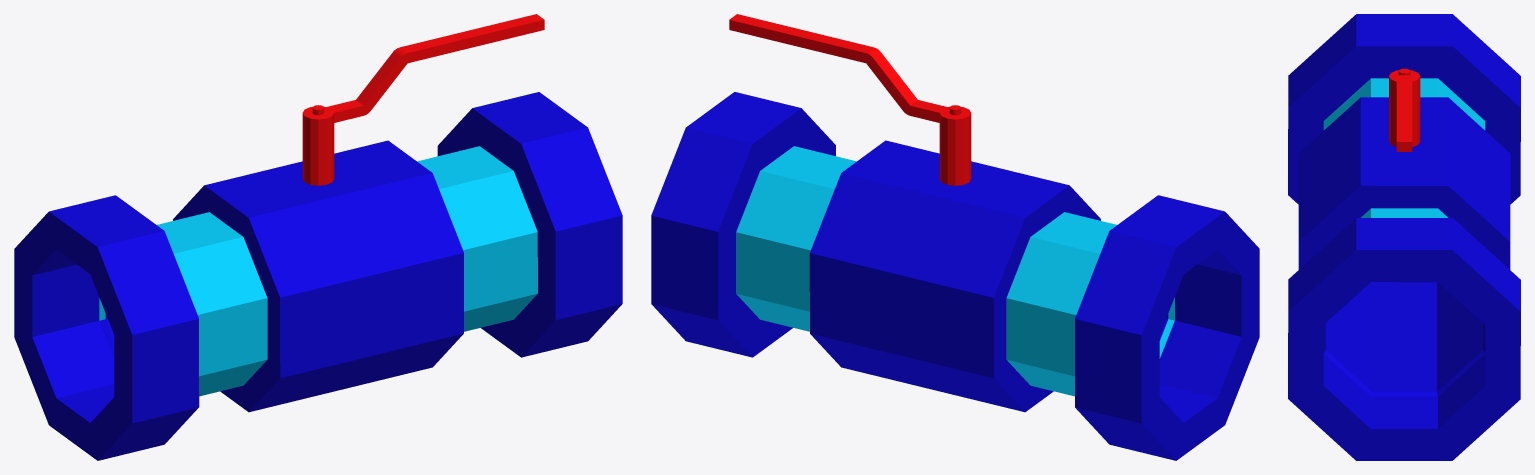
The model's file is pipes 2.0.fbx.
3 views of the same model, side by side, from view 1: azimuth 30°, elevation 25°; view 2: azimuth 150°, elevation 25°; view 3: azimuth 270°, elevation 25° (orthographic).
Visible parts, largest first — view 1: Cylinder.005; view 2: Cylinder.005; view 3: Cylinder.005.
Boxes of the visible parts, left/top/right/bottom form: Cylinder.005: left=14, top=14, right=622, bottom=460; Cylinder.005: left=651, top=14, right=1259, bottom=460; Cylinder.005: left=1288, top=14, right=1520, bottom=460.
Bounding box in the file's own units: 82.25 × 50.03 × 34.27.
